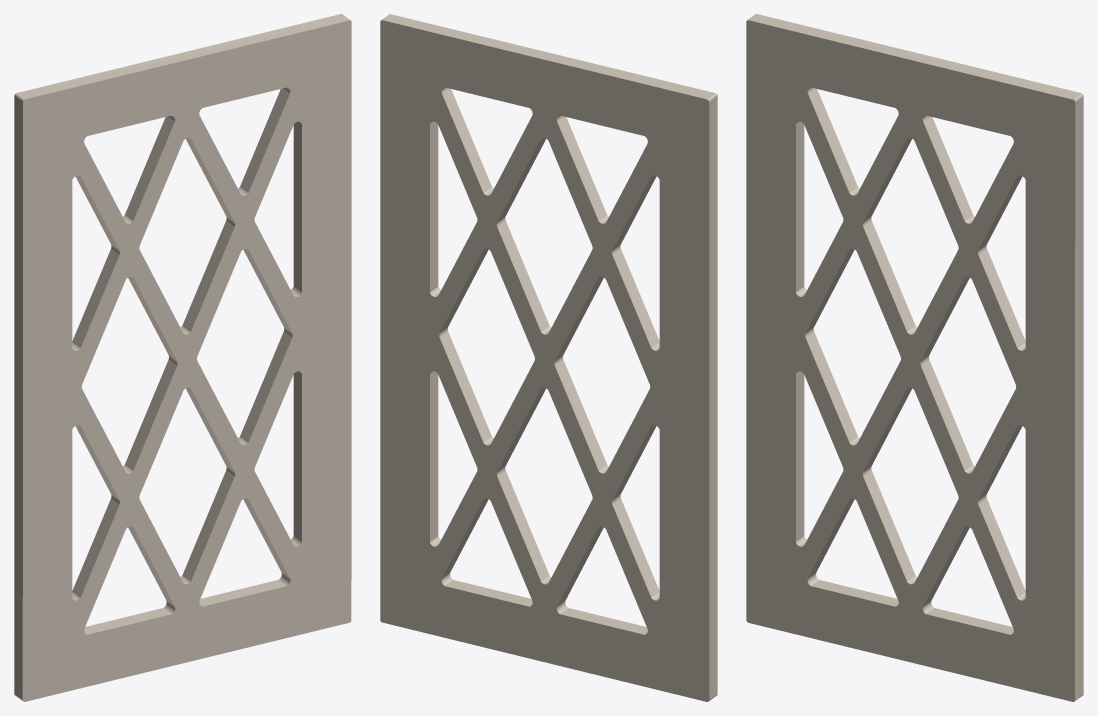
File: nrd-cam-103.glb
3 renders of one model, left to right at view 1: azimuth 30°, elevation 25°; view 2: azimuth 150°, elevation 25°; view 3: azimuth 330°, elevation 25°, orthographic.
Parts seen in each view (by area): view 1: NRD CAM 103; view 2: NRD CAM 103; view 3: NRD CAM 103.
Part boxes in pixels (left/top/right/bottom): NRD CAM 103: left=14, top=14, right=351, bottom=701; NRD CAM 103: left=380, top=14, right=717, bottom=701; NRD CAM 103: left=746, top=14, right=1083, bottom=701.
Size of the model in its own units: 0.3999 by 0.6999 by 0.018.
